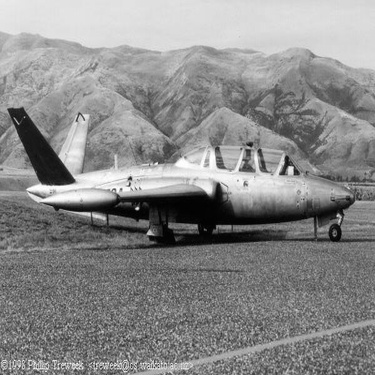airplane: (1, 86, 354, 252)
